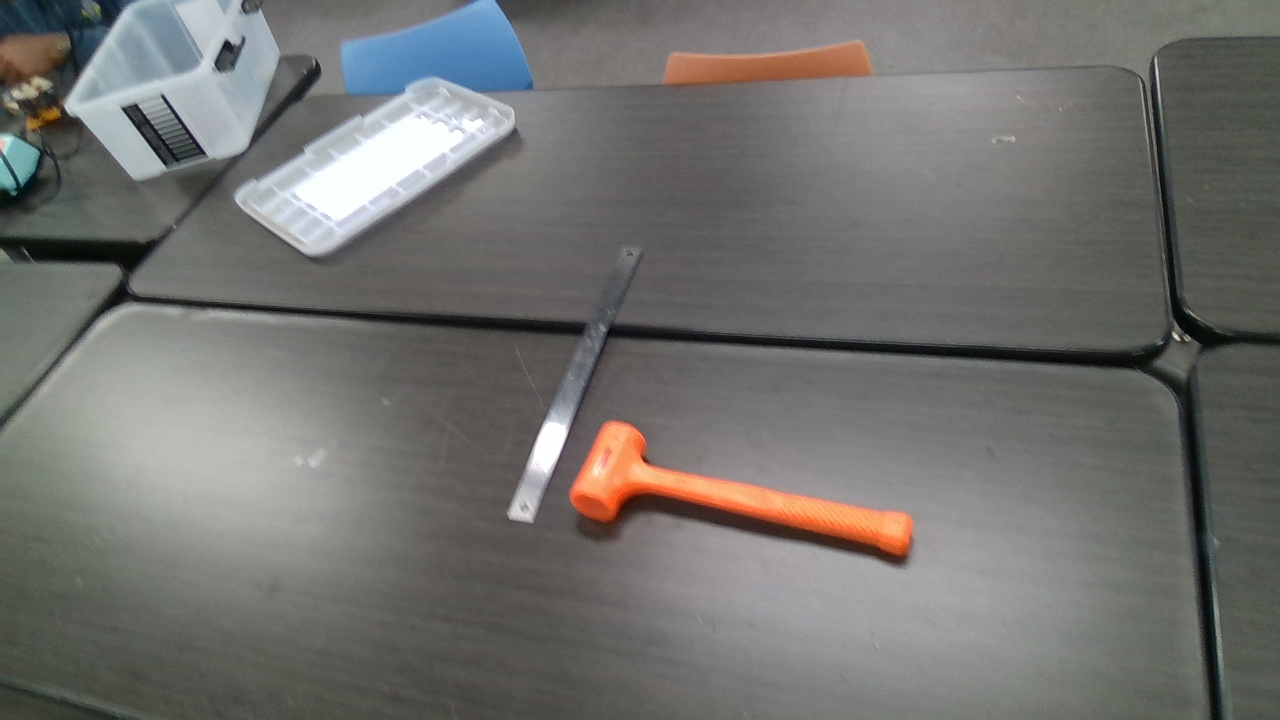Orange Hammer: (573, 422, 913, 558)
